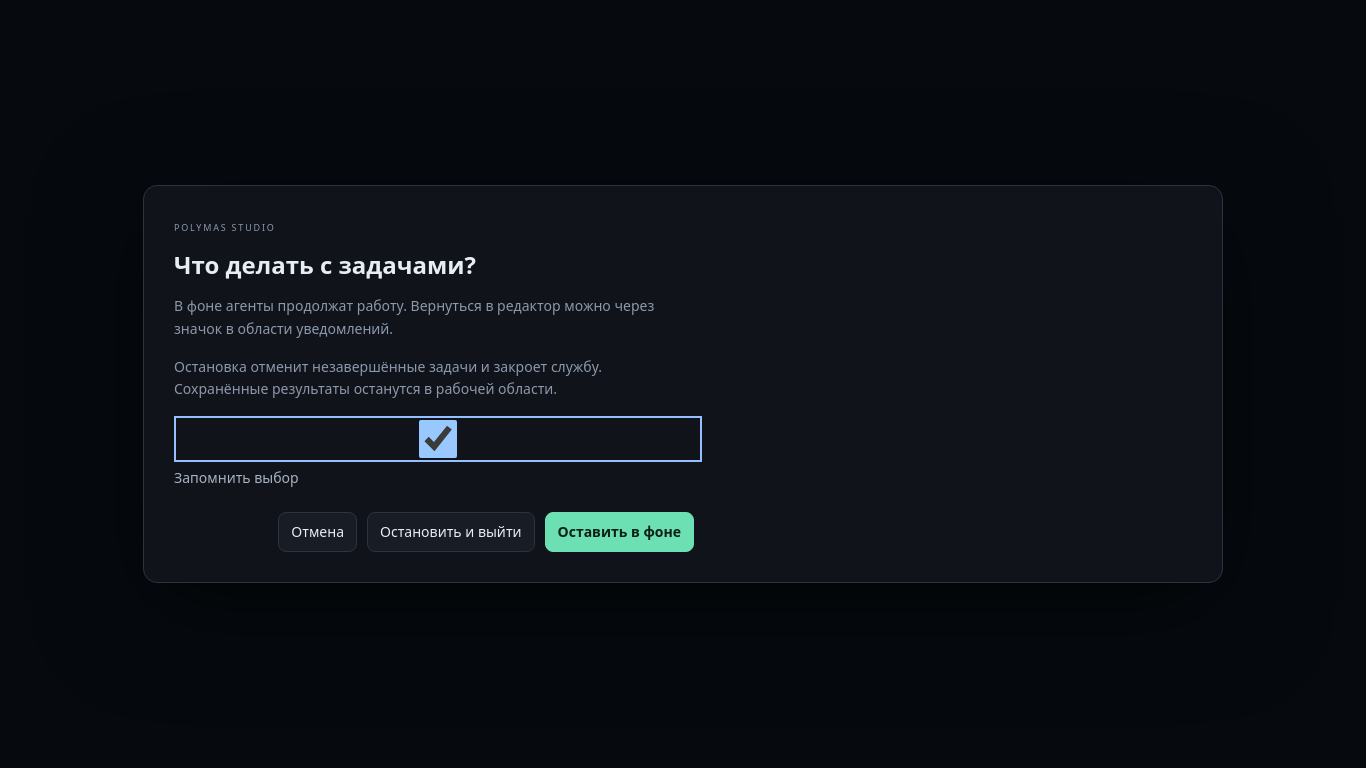
it: failed shutdown keeps the close dialog and displays the service error
Click the button "Остановить и выйти" at (451, 532), box [367,512,534,552]
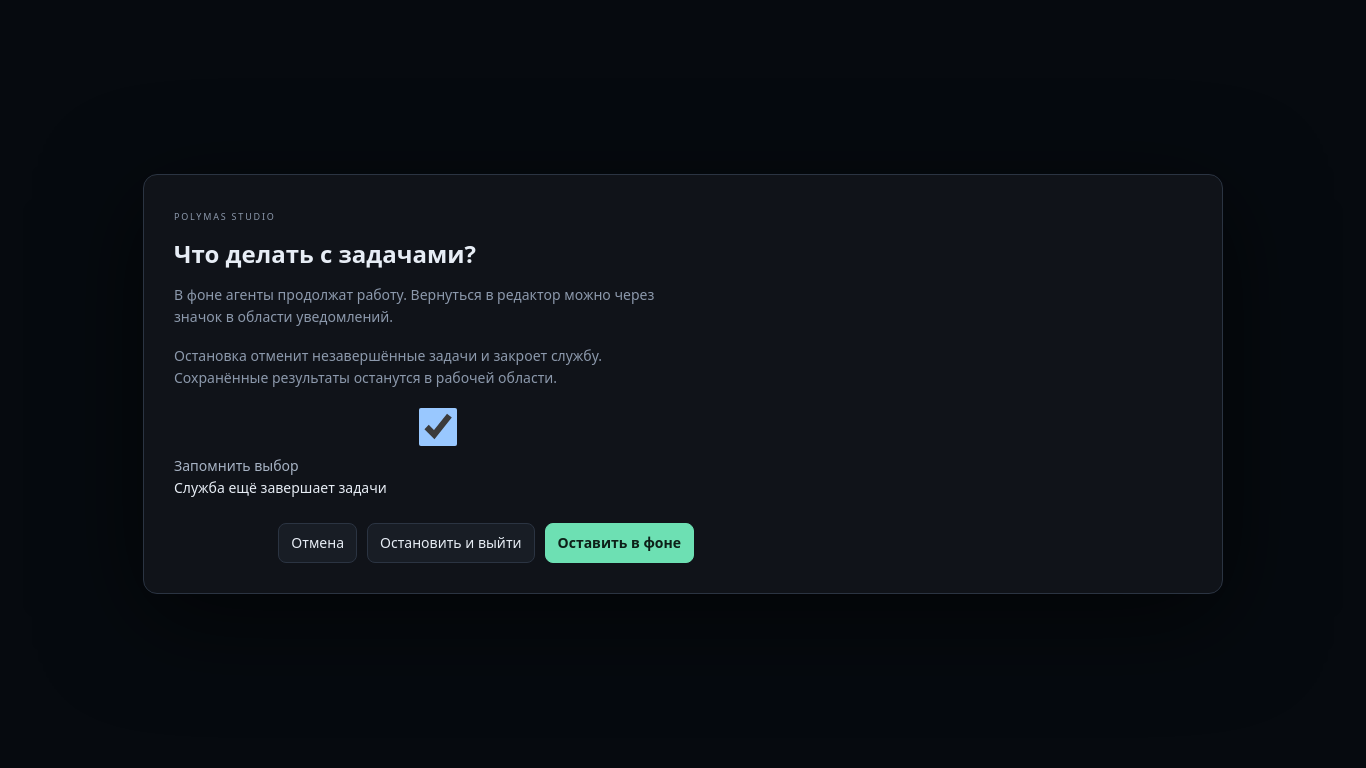
Expected: the dialog named "Закрыть PolyMAS Studio" is shown, [143,174,1223,594]
Now the message reads "Служба ещё завершает задачи", box [174,478,387,497]
